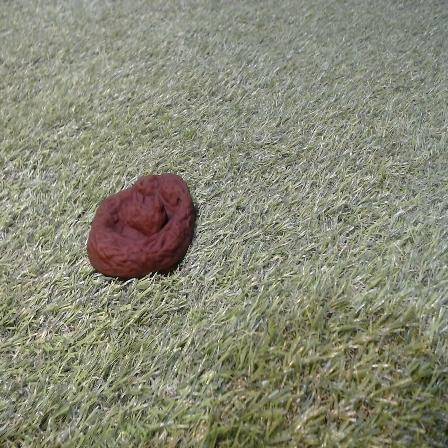dog-poop: (87, 171, 198, 280)
